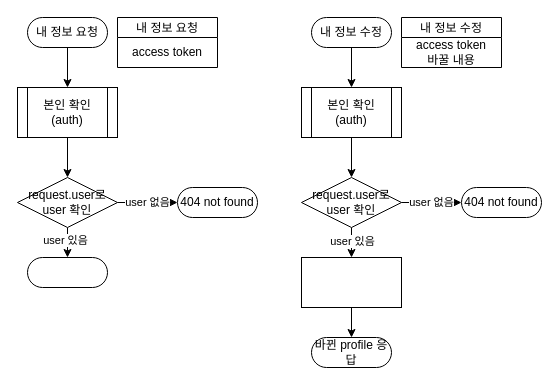
This 559x385 diagram has some shape labels left out. The shapes that lost their labels are listed below. From the top down, each one's centre as x and y in pixels, then its label:
At pixel 67 272: "user profile 응답".
At pixel 351 282: "바뀐 내용 수정".
